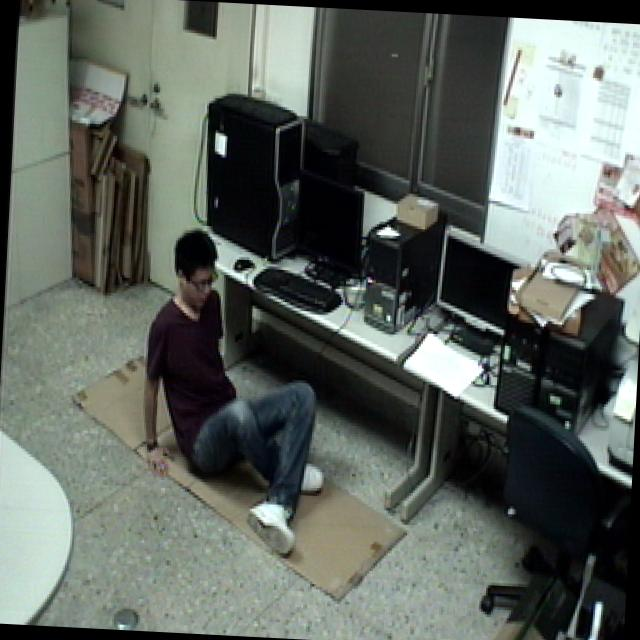sit: (130, 214, 343, 565)
